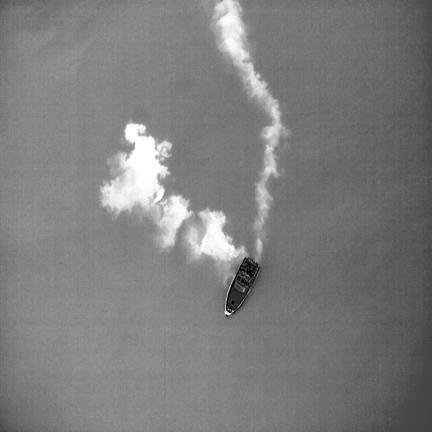flukeprints: (101, 123, 171, 213), (188, 208, 245, 262), (158, 197, 191, 246)
